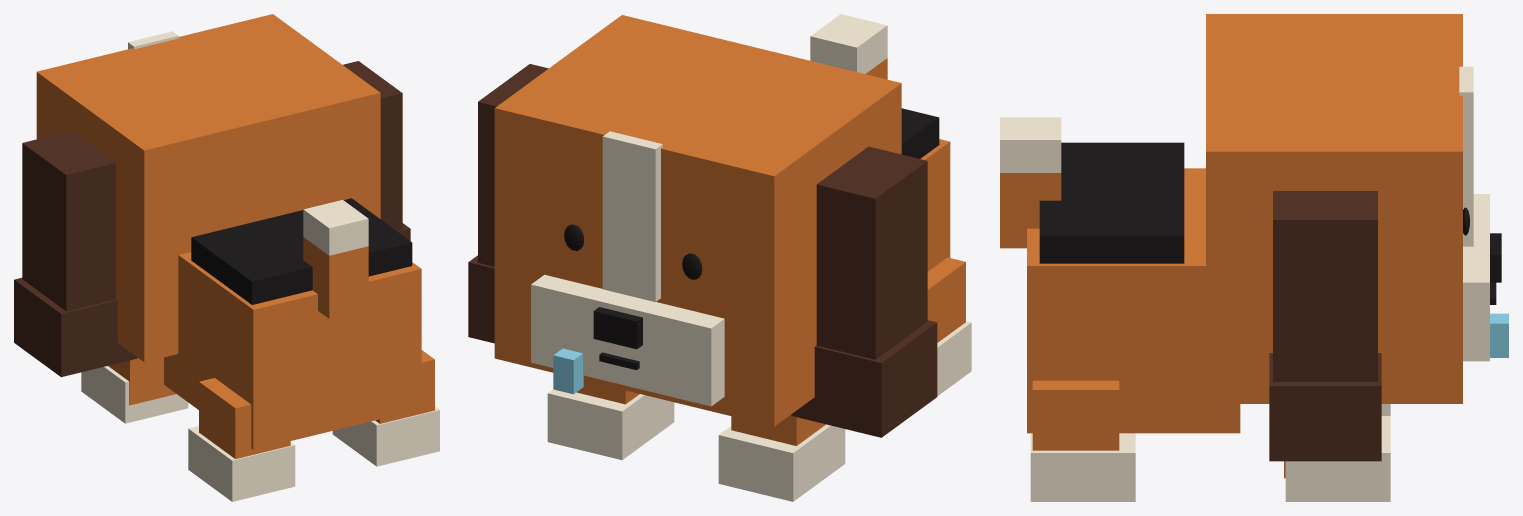
The model's file is Beagle_Block.gltf.
The picture shows the model from 3 angles, left to right: view 1: azimuth 30°, elevation 25°; view 2: azimuth 150°, elevation 25°; view 3: azimuth 270°, elevation 25°; orthographic projection. The views are drawn at different scales.
Visible parts, largest first — view 1: NarrowHead, NarrowShortTorso, LongHangingEarL, BlackBackSaddle, SquareEarEndL, LegBL_Paw, LegBR_Paw, ShortTail, LongHangingEarR, LegBL_Leg, LegFL_Paw, WhiteTailEnd (+2 smaller); view 2: NarrowHead, LongHangingEarL, WhiteMuzzle, SquareEarEndL, WhiteCenterStripe, LegFL_Paw, LegFR_Paw, LongHangingEarR, WhiteTailEnd, NarrowShortTorso, LegBL_Leg, SquareEarEndR (+6 smaller); view 3: NarrowHead, NarrowShortTorso, LongHangingEarR, BlackBackSaddle, SquareEarEndR, LegBR_Leg, LegBR_Paw, LegFR_Paw, WhiteMuzzle, WhiteTailEnd, ShortTail, WhiteCenterStripe (+2 smaller).
Boxes of the visible parts, x1,y1,x2,y2 form: NarrowHead: (36, 14, 380, 362); NarrowShortTorso: (164, 252, 421, 449); LongHangingEarL: (22, 131, 115, 311); BlackBackSaddle: (191, 198, 412, 304); SquareEarEndL: (14, 277, 137, 377); LegBL_Paw: (188, 426, 295, 501); LegBR_Paw: (332, 407, 439, 466); ShortTail: (303, 237, 368, 318); LongHangingEarR: (343, 61, 402, 230); LegBL_Leg: (199, 378, 290, 458); LegFL_Paw: (81, 366, 188, 423); WhiteTailEnd: (303, 200, 368, 255); NarrowHead: (494, 15, 901, 426); LongHangingEarL: (816, 146, 927, 359); WhiteMuzzle: (531, 274, 724, 406); SquareEarEndL: (791, 320, 937, 437); WhiteCenterStripe: (602, 131, 662, 301); LegFL_Paw: (718, 424, 845, 501); LegFR_Paw: (547, 389, 674, 459); LongHangingEarR: (478, 64, 548, 266); WhiteTailEnd: (810, 14, 887, 73); NarrowShortTorso: (920, 139, 950, 271); LegBL_Leg: (927, 257, 965, 342); SquareEarEndR: (468, 255, 494, 343); NarrowHead: (1206, 14, 1462, 403); NarrowShortTorso: (1027, 168, 1240, 433); LongHangingEarR: (1273, 191, 1377, 381); BlackBackSaddle: (1039, 142, 1184, 263); SquareEarEndR: (1269, 353, 1381, 461); LegBR_Leg: (1032, 380, 1119, 450); LegBR_Paw: (1030, 433, 1135, 501); LegFR_Paw: (1285, 416, 1390, 501); WhiteMuzzle: (1463, 194, 1489, 361); WhiteTailEnd: (1000, 117, 1061, 172); ShortTail: (1000, 173, 1061, 248); WhiteCenterStripe: (1459, 66, 1473, 246).
Size of the model in its own units: 2.66 by 2.21 by 2.81.
